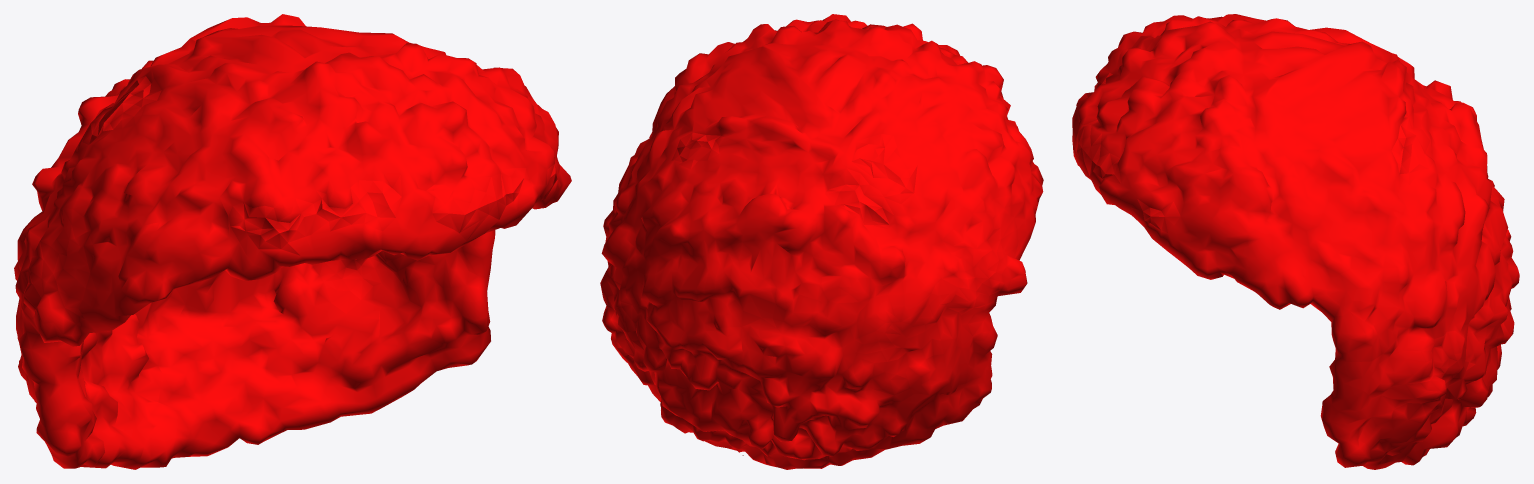
The model's file is messy red ape.glb.
The picture shows the model from 3 angles, left to right: view 1: azimuth 30°, elevation 25°; view 2: azimuth 150°, elevation 25°; view 3: azimuth 270°, elevation 25°; orthographic projection. The views are drawn at different scales.
Parts seen in each view (by area): view 1: hair_short_messy_red_ape.001; view 2: hair_short_messy_red_ape.001; view 3: hair_short_messy_red_ape.001.
Part boxes in pixels (x1,y1,x2,y2): hair_short_messy_red_ape.001: (14,14,571,469); hair_short_messy_red_ape.001: (600,14,1043,469); hair_short_messy_red_ape.001: (1072,14,1519,469).
Bounding box in the file's own units: 0.3498 × 0.3208 × 0.3222.
Materials: 1 (1 with a texture image).
